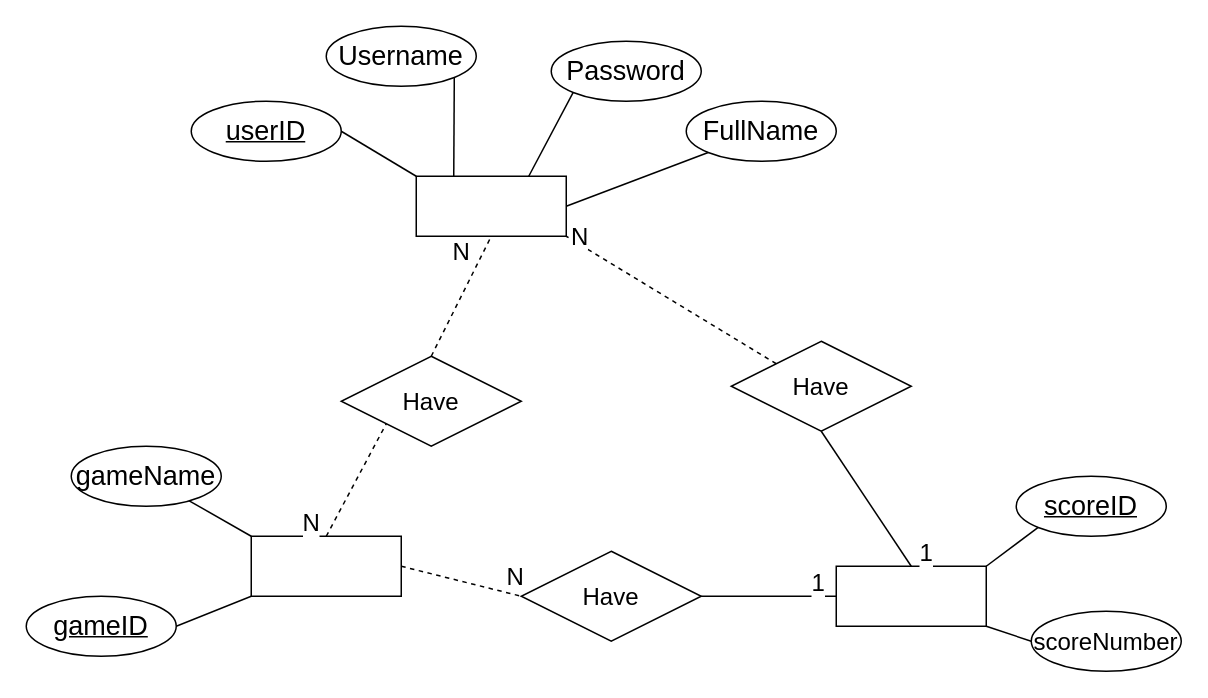
This 1208x698 diagram has some shape labels left out. The shapes that lost their labels are listed below. From the top down, each one's box as (x1, y1, x2, y2) in pixels, then its label:
(415, 175, 566, 236): User
(250, 535, 401, 596): Games
(835, 565, 986, 626): Score
